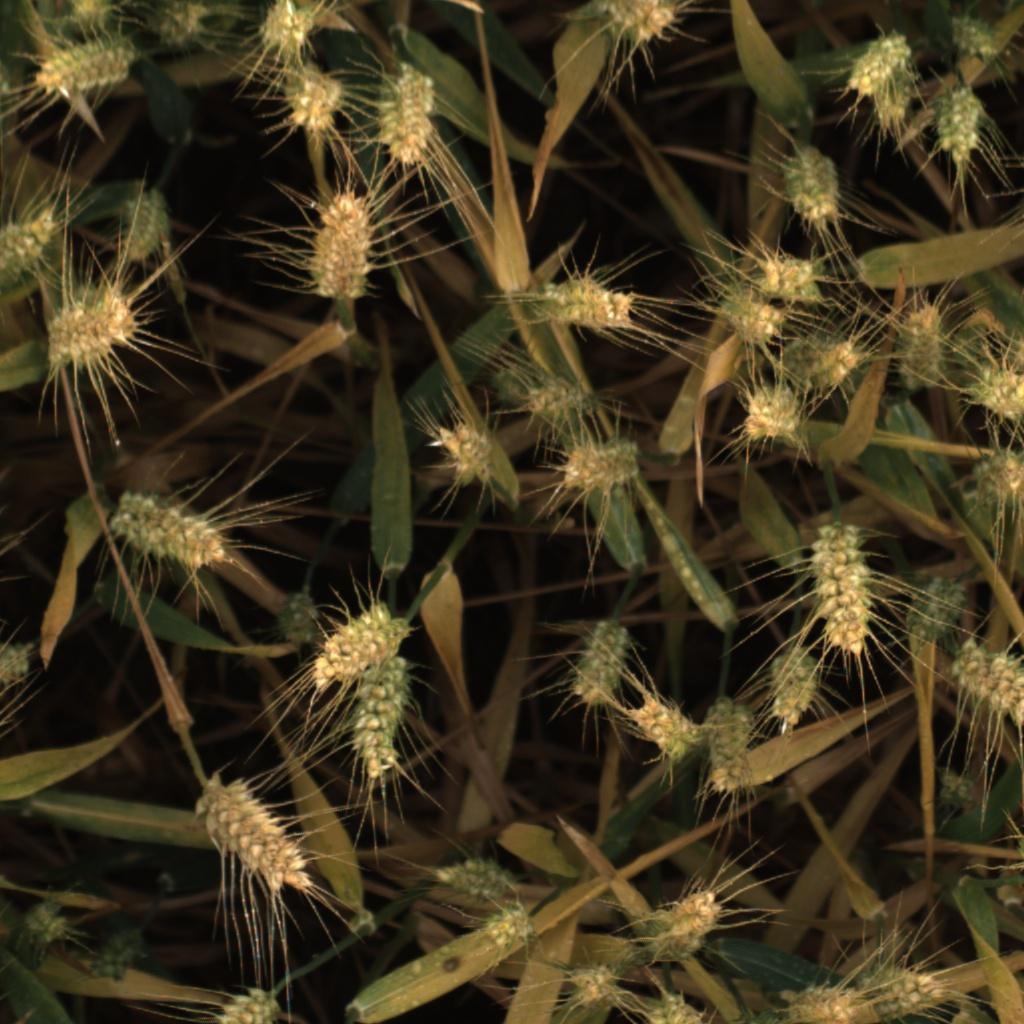0-0: (191, 775, 319, 896), (98, 482, 236, 576), (799, 524, 881, 665), (298, 184, 381, 311), (311, 589, 408, 693), (347, 655, 420, 778), (28, 26, 140, 102), (44, 288, 138, 376), (944, 643, 1024, 740), (371, 62, 443, 169), (640, 879, 726, 966), (696, 691, 758, 808), (538, 269, 641, 335), (565, 623, 641, 712), (882, 295, 948, 392), (859, 954, 947, 1024), (901, 567, 972, 645), (559, 432, 644, 497), (276, 64, 351, 137), (110, 185, 172, 270), (763, 640, 815, 739), (784, 138, 842, 225), (0, 206, 57, 294), (778, 337, 860, 398), (847, 26, 914, 99), (627, 692, 700, 759), (740, 377, 804, 453), (931, 87, 988, 172), (745, 251, 827, 309), (429, 420, 495, 492), (8, 895, 66, 976), (427, 853, 514, 906), (718, 287, 786, 354), (591, 0, 679, 50), (210, 969, 289, 1024), (868, 55, 928, 127), (967, 352, 1024, 425), (515, 366, 595, 418), (964, 445, 1024, 514), (257, 0, 323, 62), (947, 9, 1012, 71), (780, 973, 859, 1024), (477, 895, 541, 956), (89, 921, 147, 987), (557, 956, 624, 1011), (149, 0, 217, 54), (280, 585, 331, 655), (637, 989, 723, 1024), (2, 631, 38, 701), (935, 765, 982, 815), (156, 228, 186, 302), (58, 0, 119, 34)
